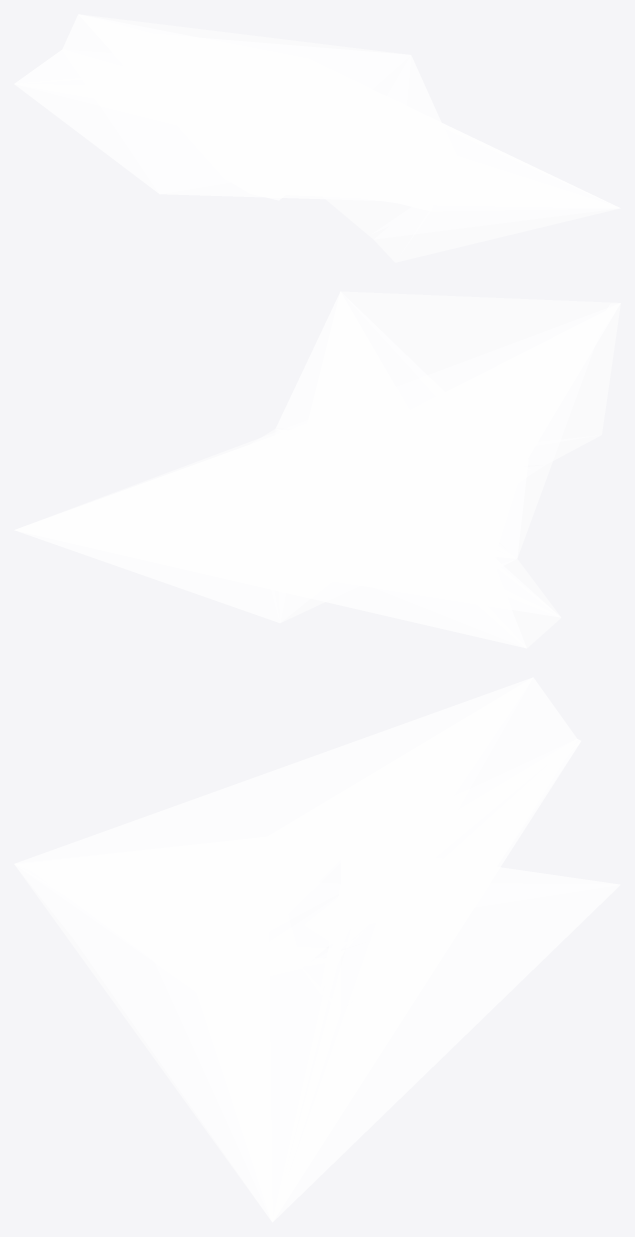
The model's file is crystal_abstract_shard.glb.
The picture shows the model from 3 angles, top to bottom: view 1: azimuth 30°, elevation 25°; view 2: azimuth 150°, elevation 25°; view 3: azimuth 270°, elevation 25°; orthographic projection. The views are drawn at different scales.
Visible parts, largest first — view 1: Material2 (×2), Material3; view 2: Material2 (×2), Material3; view 3: Material2 (×2), Material3.
Part boxes in pixels (<box>): Material2 (×2): <box>14,14,619,262</box>; Material3: <box>15,15,619,239</box>; Material2 (×2): <box>14,291,620,648</box>; Material3: <box>16,292,620,644</box>; Material2 (×2): <box>14,677,619,1222</box>; Material3: <box>15,678,619,1221</box>.
Bounding box in the file's own units: 343 × 152 × 299.
1 material, 1 textured.
